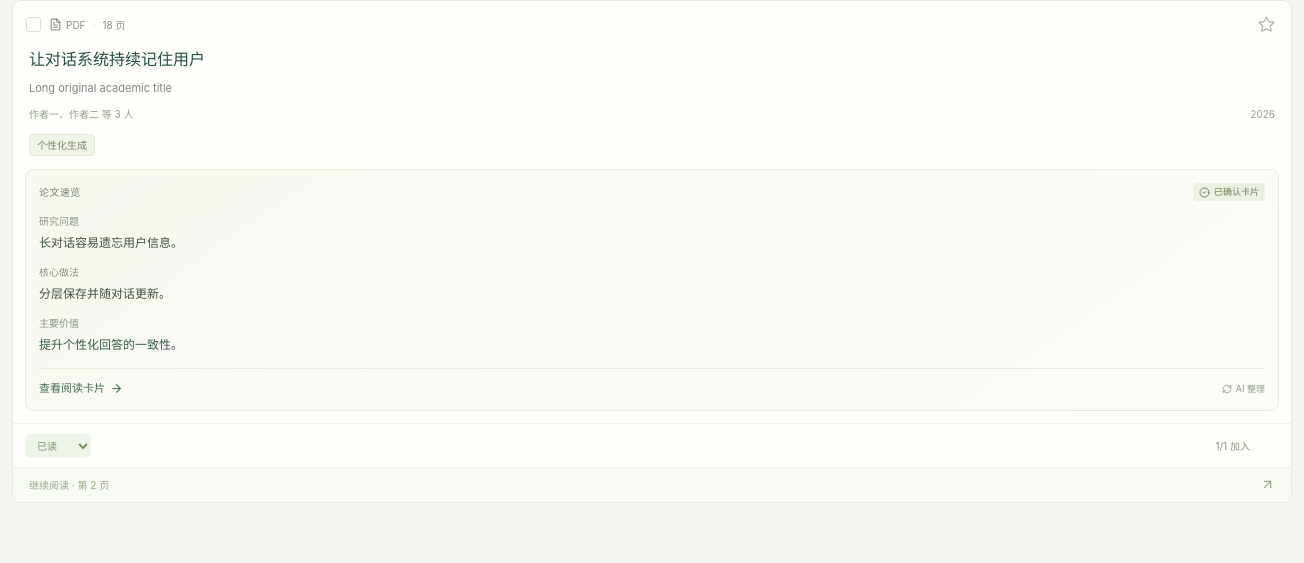
重新整理失败时显示原因并继续保留原速览
Click the button with aria-label "重新整理简明速览" at (1243, 389), box [1222,380,1265,398]
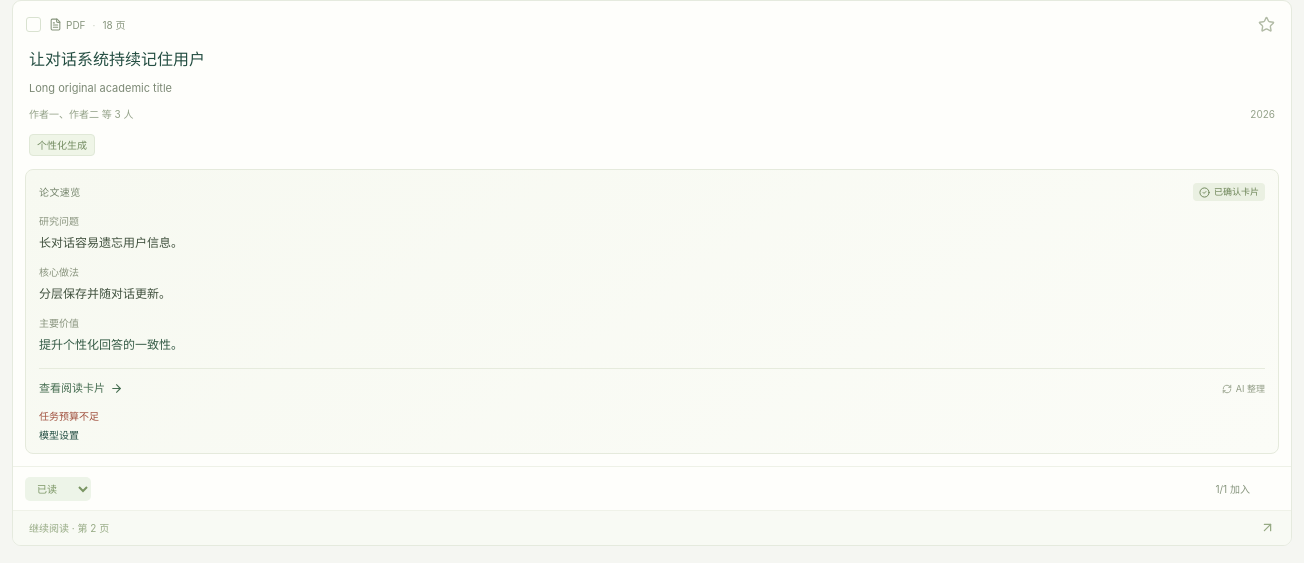
Expected: the heading "让对话系统持续记住用户" is shown, [29,49,205,69]
Result: the message shows "任务预算不足" at [39,410,99,422]
